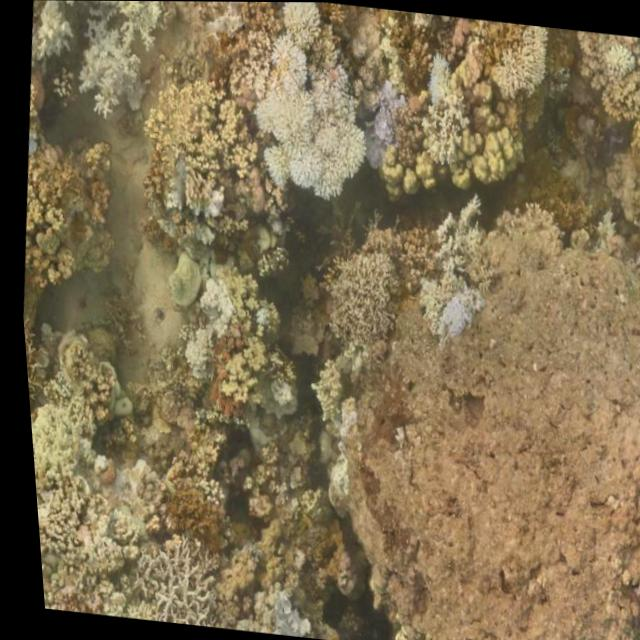Bleached Coral: (248, 1, 374, 195), (67, 0, 173, 119), (405, 42, 466, 161), (485, 20, 550, 105), (356, 74, 405, 172), (422, 278, 491, 346), (249, 582, 313, 638), (25, 0, 74, 71), (187, 274, 237, 332), (170, 325, 208, 387), (595, 43, 640, 82)
